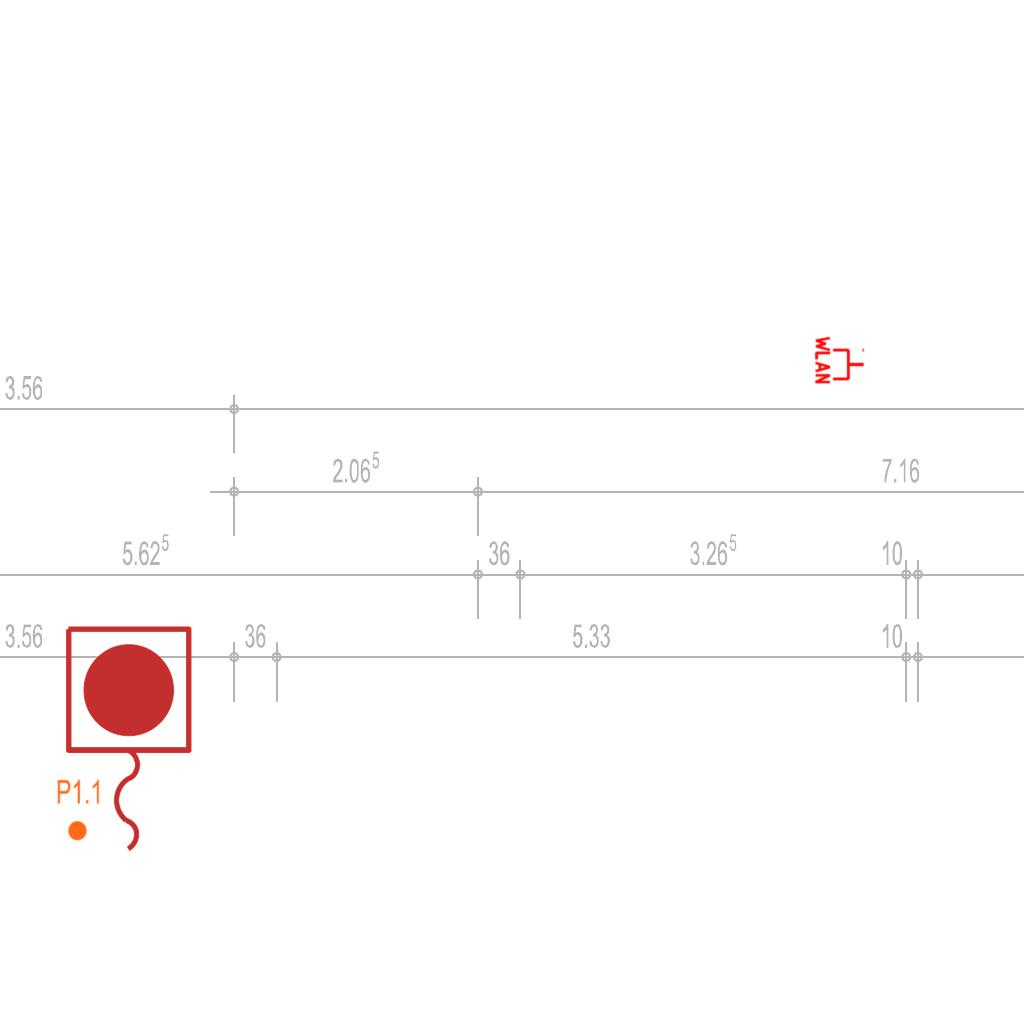Downlight_LED_Einbauleuchten_Flur: (56, 778, 102, 842)
WLAN: (814, 334, 866, 386)
Zugtaster: (55, 618, 199, 862)
